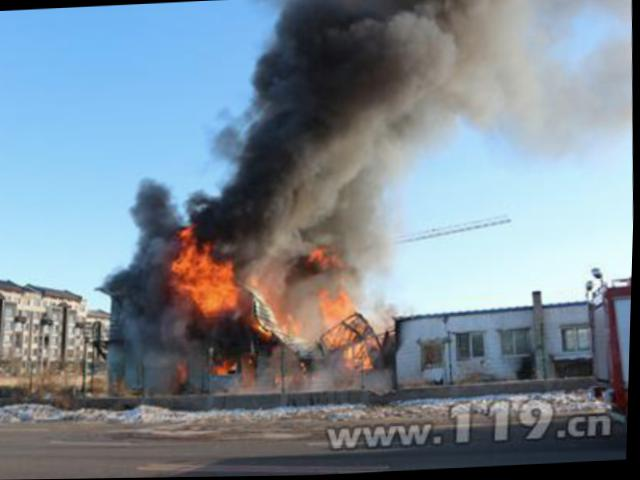fire: (173, 254, 241, 314), (318, 291, 352, 324), (347, 344, 373, 372), (179, 222, 200, 256)
